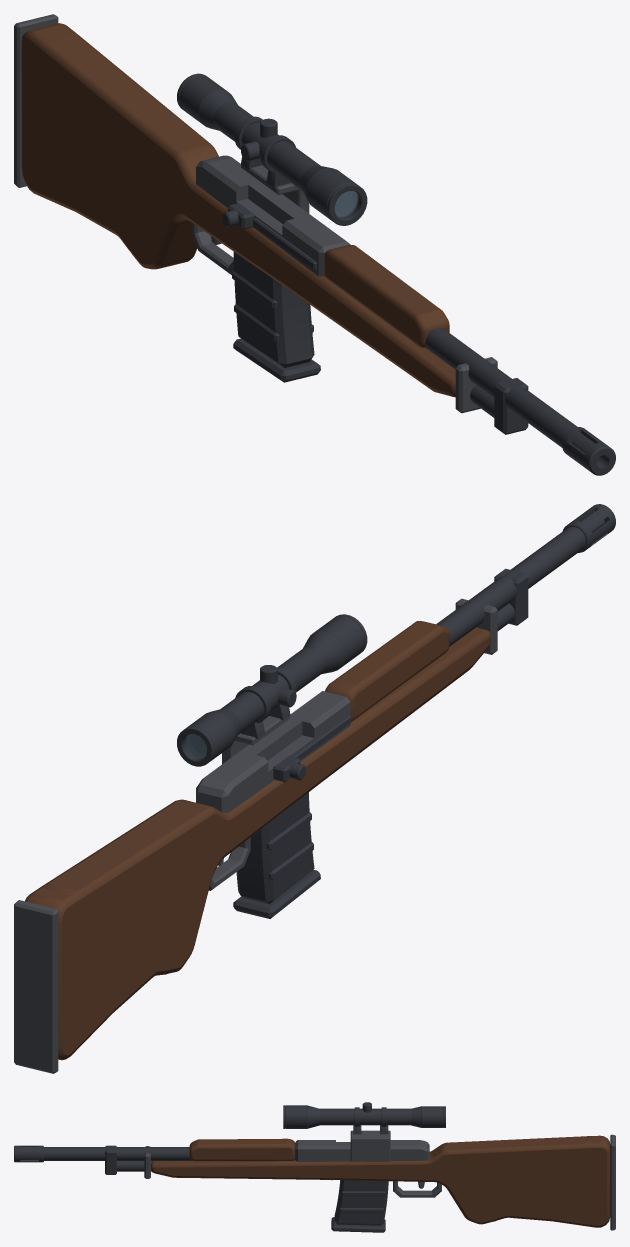
File: w_dmr@dmr_classic.glb
The picture shows the model from 3 angles, top to bottom: view 1: azimuth 30°, elevation 25°; view 2: azimuth 150°, elevation 25°; view 3: azimuth 270°, elevation 25°; orthographic projection. The views are drawn at different scales.
Parts seen in each view (by area): view 1: stock_wzA__wood__p5c3c29, scope_wzB__dark__p35383f, barrel_wzB__dark__p35383f, mag_wzB__dark__p35383f, body_wzB__frame__p4a4c52, guard_wzA__wood__p5c3c29, stock_wzB__frame__p4a4c52, charge_wzB__dark__p35383f, barrel_wzB__frame__p4a4c52, scope_wzB__frame__p4a4c52, scope_wzN__dark__p35383f; view 2: stock_wzA__wood__p5c3c29, scope_wzB__dark__p35383f, stock_wzB__frame__p4a4c52, body_wzB__frame__p4a4c52, mag_wzB__dark__p35383f, barrel_wzB__dark__p35383f, guard_wzA__wood__p5c3c29, charge_wzB__dark__p35383f, scope_wzB__frame__p4a4c52; view 3: stock_wzA__wood__p5c3c29, scope_wzB__dark__p35383f, barrel_wzB__dark__p35383f, mag_wzB__dark__p35383f, body_wzB__frame__p4a4c52, guard_wzA__wood__p5c3c29, scope_wzB__frame__p4a4c52, stock_wzB__frame__p4a4c52.
Part boxes in pixels (left/top/right/bottom): stock_wzA__wood__p5c3c29: left=21, top=23, right=455, bottom=397; scope_wzB__dark__p35383f: left=177, top=73, right=367, bottom=225; barrel_wzB__dark__p35383f: left=425, top=328, right=615, bottom=475; mag_wzB__dark__p35383f: left=232, top=252, right=320, bottom=382; body_wzB__frame__p4a4c52: left=192, top=155, right=350, bottom=276; guard_wzA__wood__p5c3c29: left=324, top=244, right=449, bottom=347; stock_wzB__frame__p4a4c52: left=14, top=14, right=58, bottom=187; charge_wzB__dark__p35383f: left=222, top=203, right=316, bottom=270; barrel_wzB__frame__p4a4c52: left=455, top=357, right=497, bottom=413; scope_wzB__frame__p4a4c52: left=241, top=164, right=309, bottom=213; scope_wzN__dark__p35383f: left=241, top=118, right=277, bottom=161; stock_wzA__wood__p5c3c29: left=25, top=627, right=490, bottom=1060; scope_wzB__dark__p35383f: left=177, top=614, right=367, bottom=766; stock_wzB__frame__p4a4c52: left=14, top=900, right=58, bottom=1073; body_wzB__frame__p4a4c52: left=196, top=691, right=350, bottom=890; mag_wzB__dark__p35383f: left=233, top=792, right=320, bottom=918; barrel_wzB__dark__p35383f: left=436, top=504, right=615, bottom=646; guard_wzA__wood__p5c3c29: left=325, top=621, right=449, bottom=720; charge_wzB__dark__p35383f: left=273, top=715, right=351, bottom=782; scope_wzB__frame__p4a4c52: left=222, top=715, right=290, bottom=764; stock_wzA__wood__p5c3c29: left=151, top=1135, right=610, bottom=1227; scope_wzB__dark__p35383f: left=283, top=1105, right=445, bottom=1134; barrel_wzB__dark__p35383f: left=14, top=1145, right=295, bottom=1174; mag_wzB__dark__p35383f: left=331, top=1180, right=388, bottom=1232; body_wzB__frame__p4a4c52: left=295, top=1140, right=441, bottom=1197; guard_wzA__wood__p5c3c29: left=189, top=1138, right=295, bottom=1161; scope_wzB__frame__p4a4c52: left=350, top=1130, right=390, bottom=1161; stock_wzB__frame__p4a4c52: left=610, top=1134, right=615, bottom=1230.
Bounding box in the file's own units: 0.0965 × 0.338 × 1.48.
